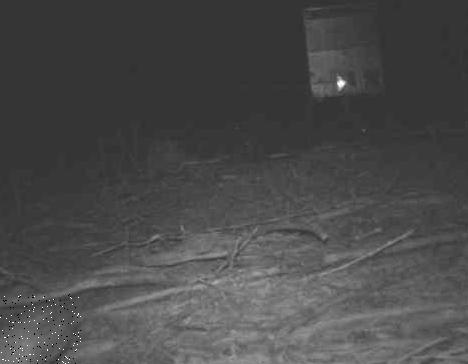Rabbit: (0, 294, 81, 364)
